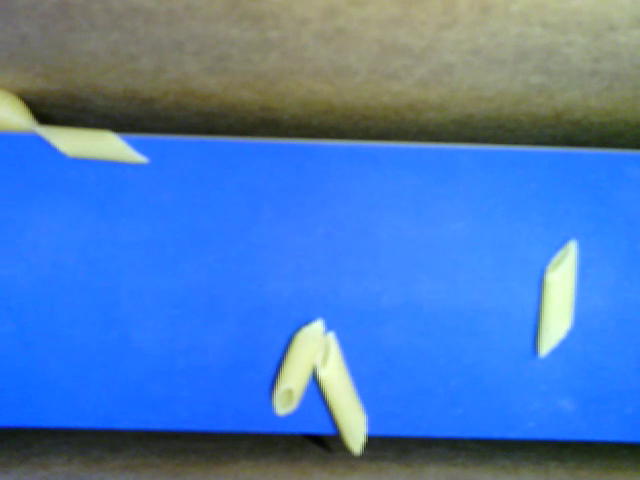penne: (315, 328, 369, 462), (271, 313, 326, 416), (536, 234, 579, 359), (28, 121, 148, 164)
shell: (1, 85, 40, 134)
